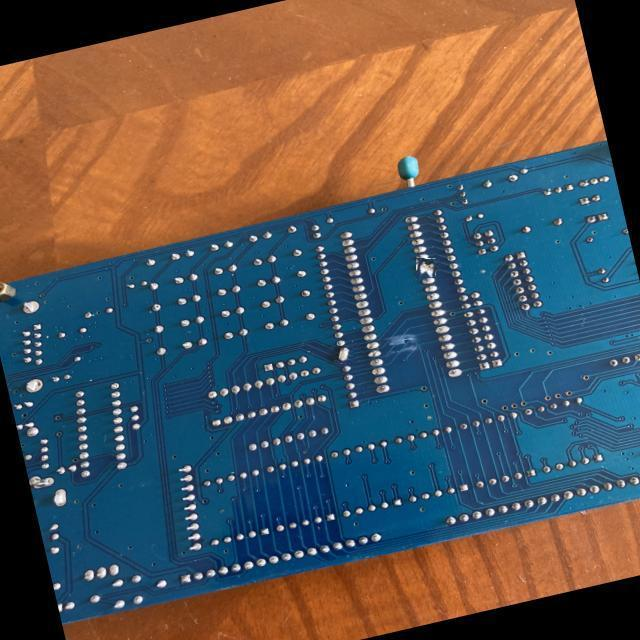damged: (416, 258, 436, 278), (334, 346, 353, 364)
